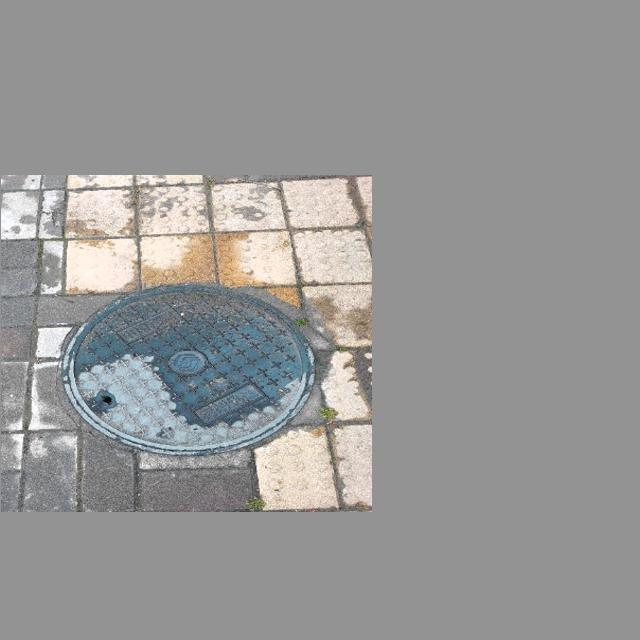good: (61, 286, 315, 454)
